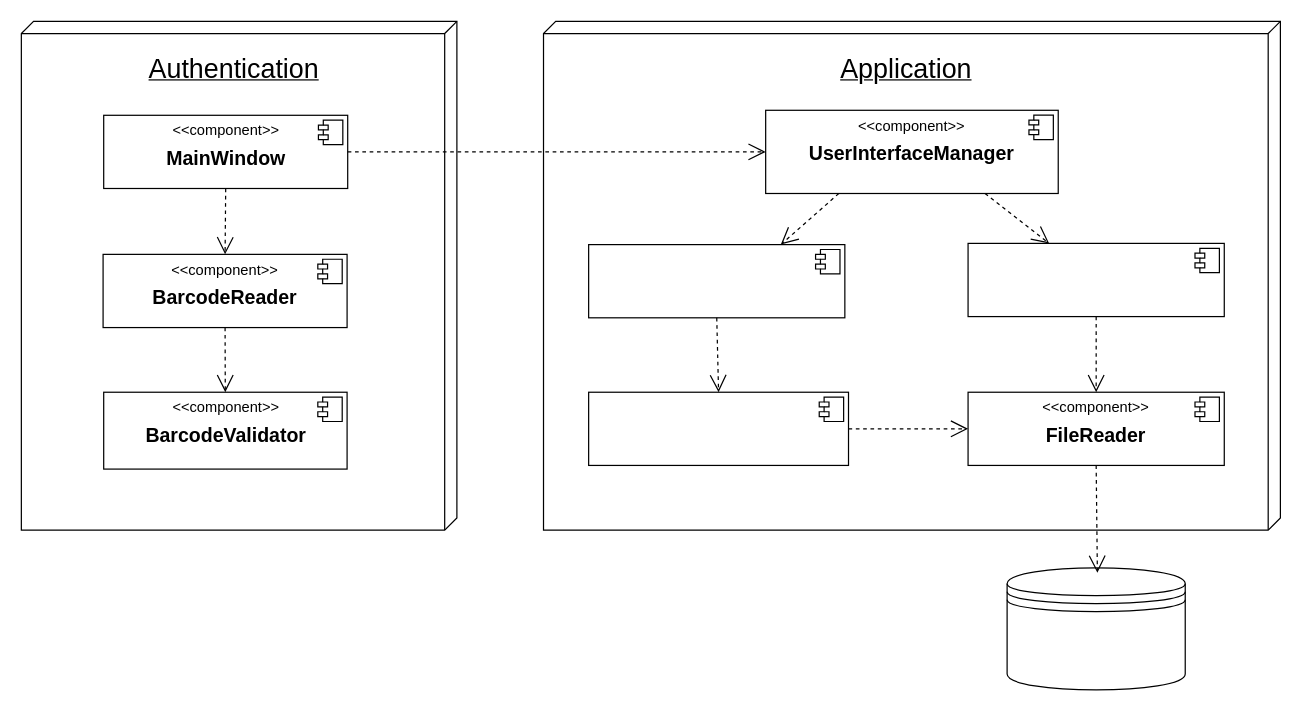
Some shapes in this 1302 by 711 pixel diagram are drawn without their labels. The shapes that lost their labels are listed below. From the top down, each one's centre as x and y in pixels, then its label:
(716,280): <<component>> DataProcessingManager
(1095,279): <<component>> DataRepository
(718,428): <<component>> DataAnalyst
(1095,628): Database
